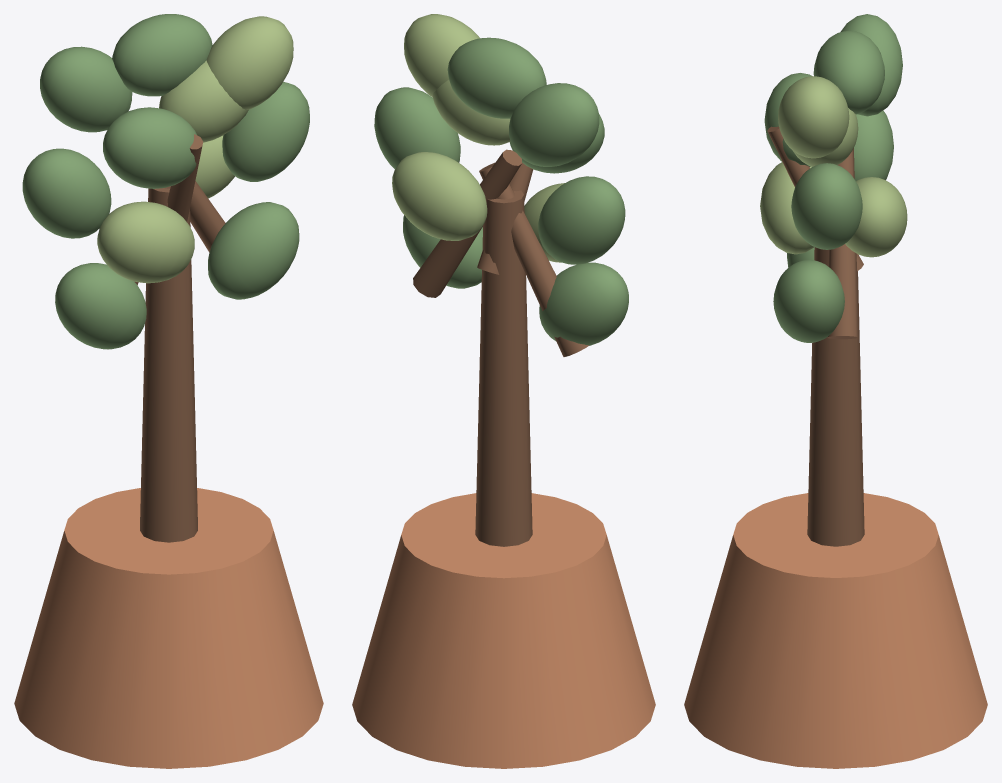
Rendered from plant-olive.glb.
The picture shows the model from 3 angles, left to right: view 1: azimuth 30°, elevation 25°; view 2: azimuth 150°, elevation 25°; view 3: azimuth 270°, elevation 25°; orthographic projection.
Visible parts, largest first — view 1: pot, leaf (×7), leafLight (×4), trunk (×3); view 2: pot, leaf (×7), trunk (×4), leafLight (×4); view 3: pot, leaf (×6), trunk (×3), leafLight (×4).
Boxes of the visible parts, x1,y1,x2,y2 form: pot: [14, 488, 323, 768]; leaf (×7): [22, 14, 309, 349]; leafLight (×4): [97, 16, 293, 283]; trunk (×3): [140, 134, 225, 542]; pot: [352, 493, 655, 768]; leaf (×7): [374, 37, 628, 345]; trunk (×4): [413, 149, 588, 546]; leafLight (×4): [392, 14, 564, 262]; pot: [684, 493, 987, 768]; leaf (×6): [764, 14, 902, 342]; trunk (×3): [767, 126, 864, 546]; leafLight (×4): [760, 76, 907, 257].
Bounding box in the file's own units: 0.68 × 1.65 × 0.68.
